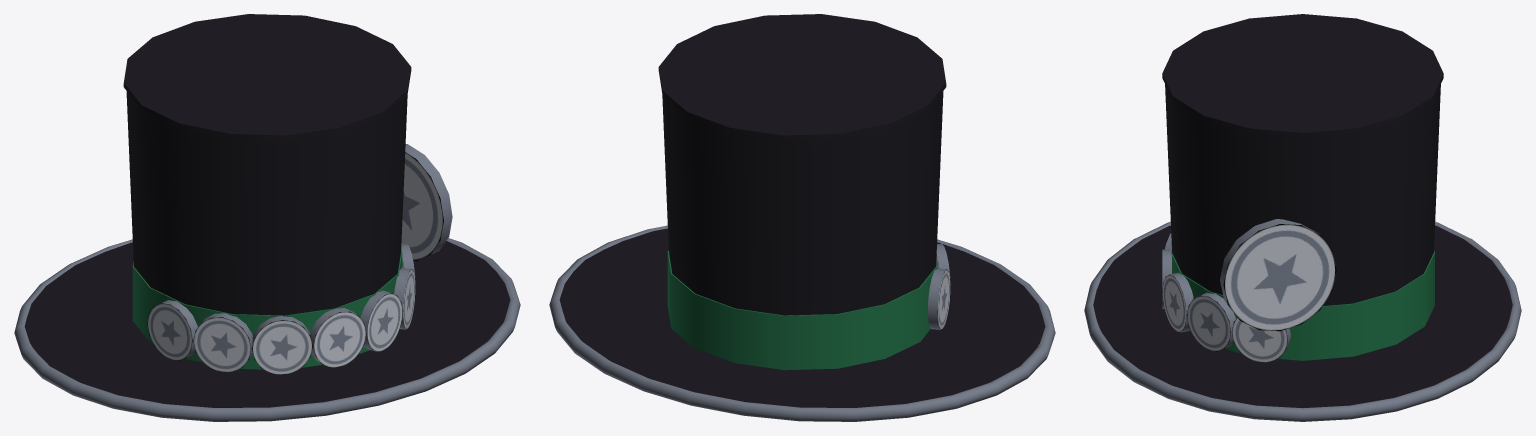
File: hat_eqtz0.glb
3 views of the same model, side by side, from view 1: azimuth 30°, elevation 25°; view 2: azimuth 150°, elevation 25°; view 3: azimuth 270°, elevation 25° (orthographic). The views are drawn at different scales.
Size of the model in its own units: 2.99 by 1.58 by 2.57.
Materials: 4 (1 with a texture image).
